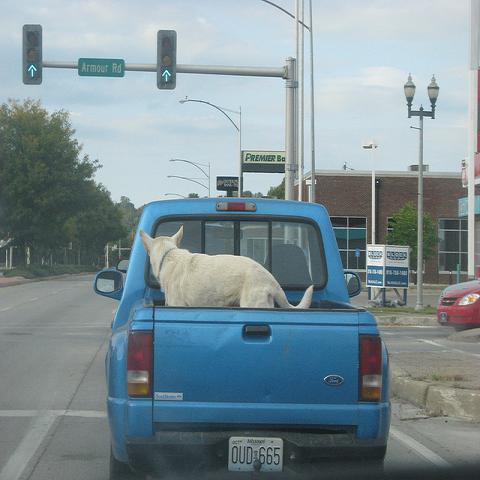car: (436, 272, 480, 332), (116, 259, 130, 280)
truck: (93, 197, 391, 473)
